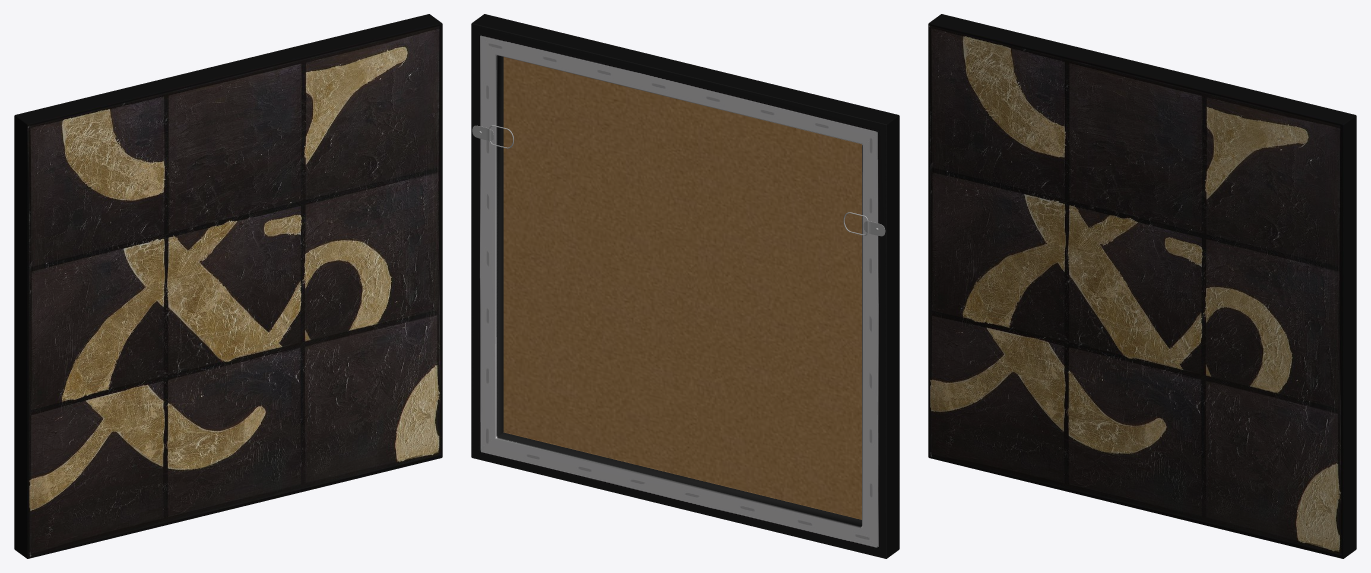
File: B075HWTLKD.glb
The picture shows the model from 3 angles, left to right: view 1: azimuth 30°, elevation 25°; view 2: azimuth 150°, elevation 25°; view 3: azimuth 330°, elevation 25°; orthographic projection.
Parts seen in each view (by area): view 1: RootNode; view 2: RootNode; view 3: RootNode.
Boxes of the visible parts, x1,y1,x2,y2 form: RootNode: (14,14,442,558); RootNode: (471,14,899,558); RootNode: (928,14,1356,558).
Bounding box in the file's own units: 0.7584 × 0.7584 × 0.0438.
1 material, 1 textured.
